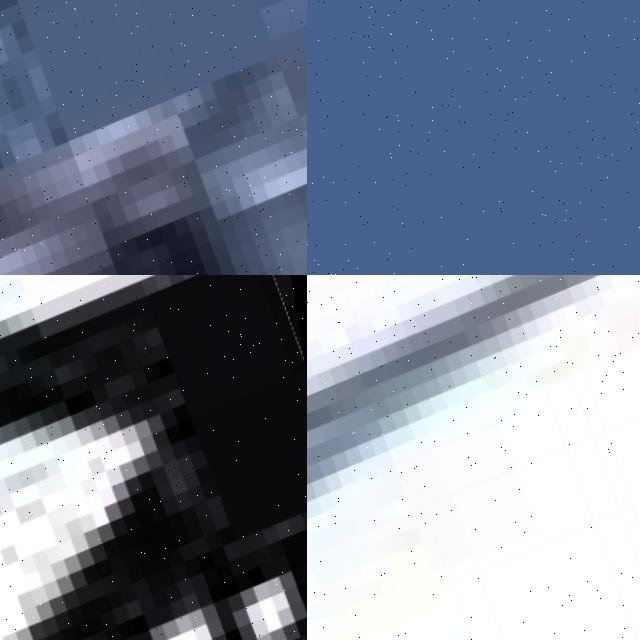0: (0, 275, 307, 640), (0, 0, 307, 275)
drone: (307, 275, 640, 640)
